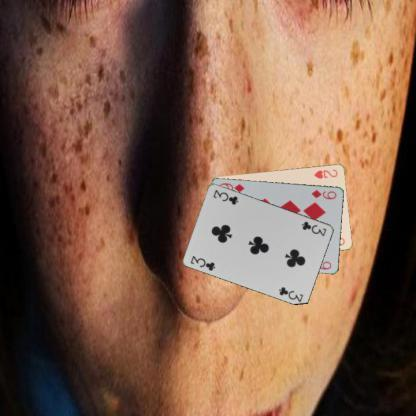2h: (312, 166, 339, 180)
3c: (299, 219, 328, 238), (188, 253, 217, 272)
9d: (309, 187, 338, 201)
